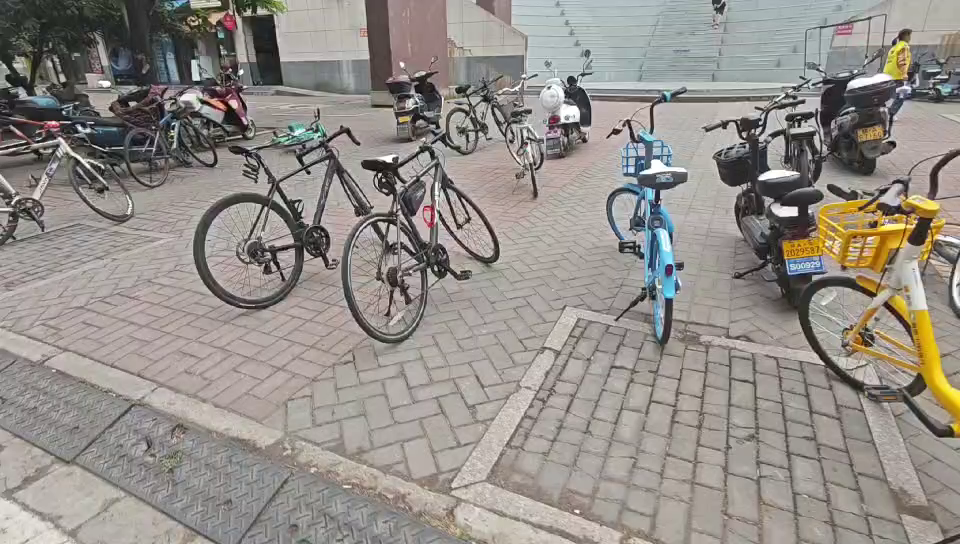others: (807, 158, 960, 542), (347, 102, 499, 364), (198, 98, 374, 323), (602, 80, 699, 351), (709, 88, 821, 312), (2, 110, 141, 261), (480, 66, 559, 199), (541, 61, 597, 164), (381, 48, 442, 142)
